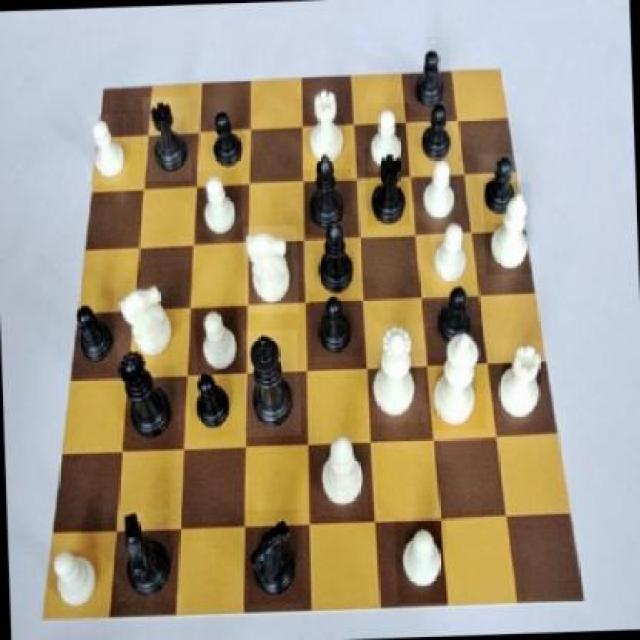bishop: (303, 151, 353, 234), (312, 214, 360, 300)
black-bishop: (242, 329, 299, 437)
black-king: (244, 510, 304, 606), (116, 509, 176, 602)
black-knight: (188, 368, 237, 440), (431, 282, 481, 352), (310, 292, 362, 358), (410, 37, 452, 117), (478, 152, 524, 225), (70, 297, 118, 365), (204, 104, 248, 174), (417, 101, 459, 172)
black-pawn: (114, 343, 180, 449)
black-queen: (142, 95, 190, 180), (364, 148, 410, 228)
black-rook: (483, 182, 534, 276), (316, 432, 372, 517)
white-bishop: (426, 324, 486, 430)
white-king: (114, 282, 178, 366), (243, 224, 299, 314)
white-knight: (394, 516, 448, 602), (48, 540, 100, 620), (430, 217, 474, 294), (195, 169, 242, 240), (84, 112, 128, 186), (420, 154, 462, 231), (366, 101, 411, 170), (196, 303, 240, 373)
white-pawn: (365, 323, 427, 425)
white-queen: (491, 337, 548, 423), (301, 86, 354, 169)
